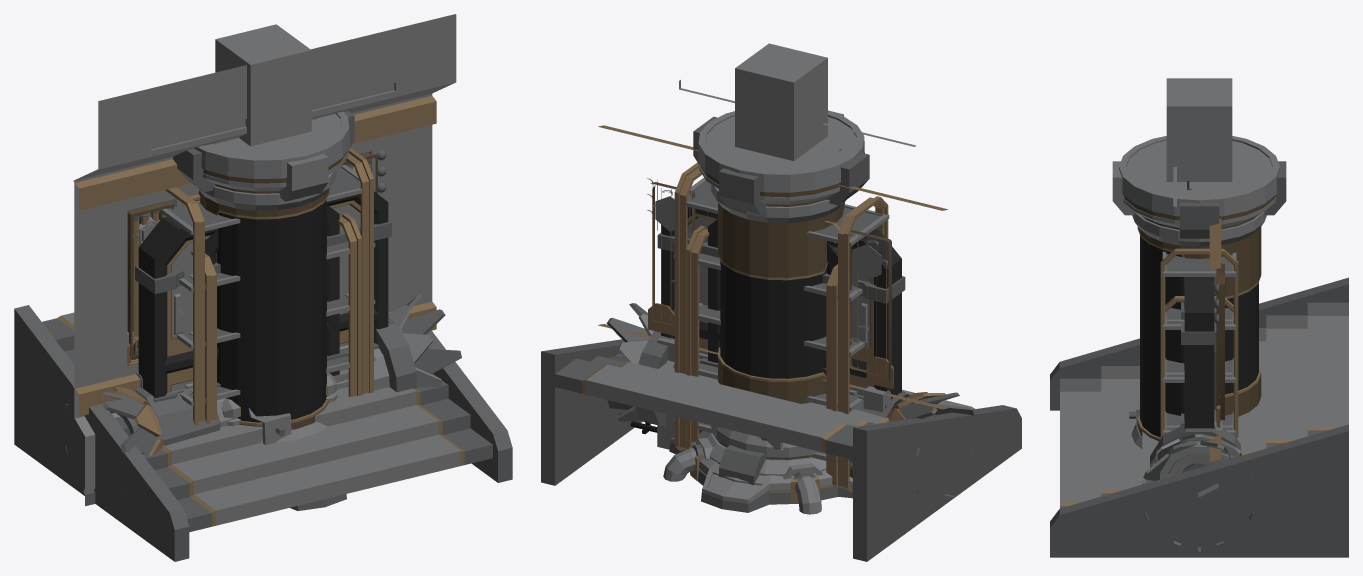
File: facility.glb
3 views of the same model, side by side, from view 1: azimuth 30°, elevation 25°; view 2: azimuth 150°, elevation 25°; view 3: azimuth 270°, elevation 25° (orthographic). The views are drawn at different scales.
Visible parts, largest first — view 1: Wall_1, Staircase, Props_Pod, Door_Double, Props_Laser, Props_Shelf_Tall, Column_1, Props_Shelf, Wall_2, Column_2, Door_Single, Wall_3 (+1 smaller); view 2: Props_Pod, Staircase, Props_Shelf_Tall, Door_Double, Column_1, Props_Shelf, Props_Laser, Wall_3, Props_Base, Column_2, Wall_2, Door_Single (+1 smaller); view 3: Staircase, Props_Pod, Column_1, Props_Shelf_Tall, Door_Double, Props_Laser, Column_2, Wall_2, Wall_1, Props_Shelf.
Part boxes in pixels (x1,y1,x2,y2): Wall_1: (74, 14, 456, 505); Staircase: (14, 305, 512, 561); Props_Pod: (173, 111, 354, 442); Door_Double: (135, 191, 391, 402); Props_Laser: (64, 294, 461, 492); Props_Shelf_Tall: (159, 148, 375, 425); Column_1: (216, 24, 311, 146); Props_Shelf: (189, 213, 361, 423); Wall_2: (73, 14, 455, 505); Column_2: (215, 25, 311, 136); Door_Single: (205, 205, 347, 387); Wall_3: (73, 14, 455, 505); Props_Pod: (663, 110, 869, 514); Staircase: (541, 339, 1021, 561); Props_Shelf_Tall: (673, 162, 889, 492); Door_Double: (657, 207, 905, 477); Column_1: (735, 43, 827, 156); Props_Shelf: (686, 225, 853, 487); Props_Laser: (606, 303, 973, 494); Wall_3: (598, 88, 953, 497); Props_Base: (669, 434, 852, 512); Column_2: (736, 44, 826, 160); Wall_2: (598, 81, 946, 409); Door_Single: (700, 219, 837, 393); Staircase: (1050, 277, 1348, 557); Props_Pod: (1112, 136, 1286, 449); Column_1: (1166, 78, 1232, 181); Props_Shelf_Tall: (1160, 248, 1238, 438); Door_Double: (1181, 277, 1216, 428); Props_Laser: (1129, 398, 1253, 546); Column_2: (1166, 78, 1232, 181); Wall_2: (1174, 167, 1224, 551); Wall_1: (1173, 167, 1225, 551); Props_Shelf: (1165, 296, 1233, 428).
Size of the model in its own units: 3.2 by 3.57 by 2.49.
